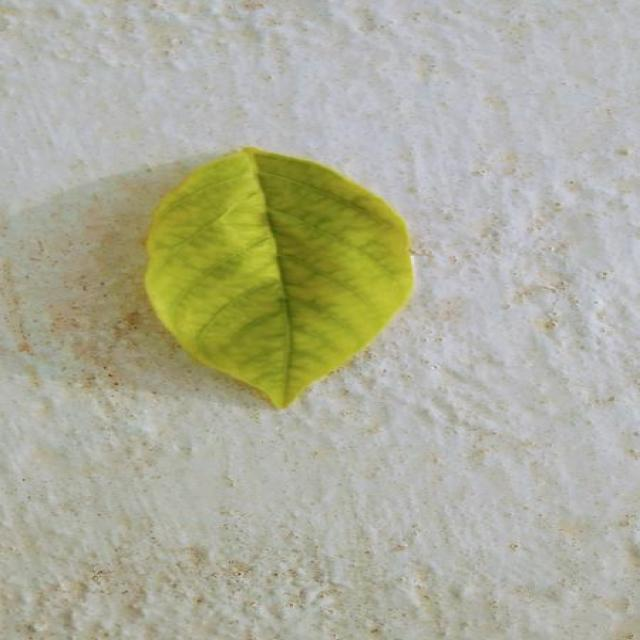honge: (145, 148, 413, 408)
leaf rust: (145, 148, 413, 408)
